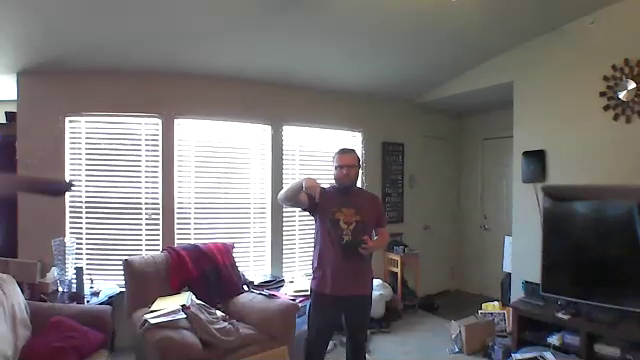down: (300, 171, 322, 204)
